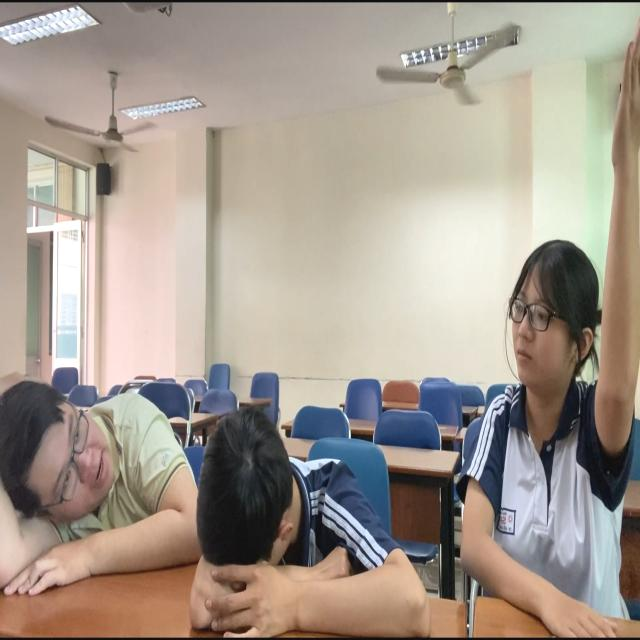raise_hand: (476, 23, 640, 640)
sleep: (194, 407, 423, 628), (1, 379, 183, 582)
